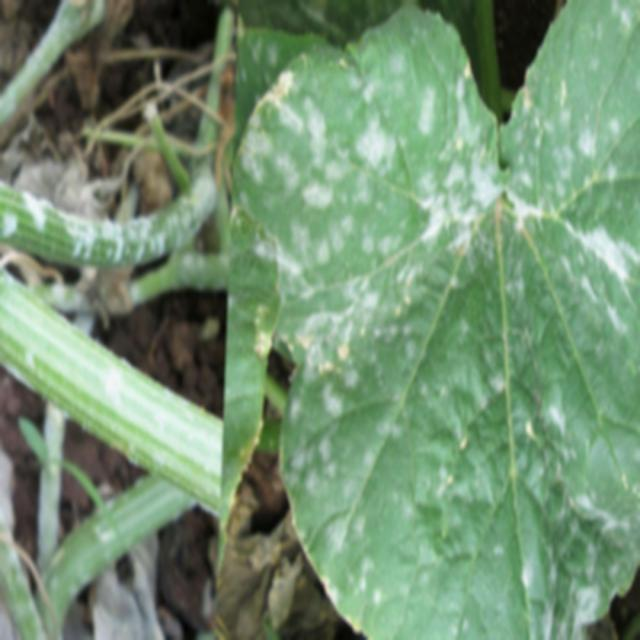Powdery_Mildew: (227, 0, 640, 638), (508, 69, 640, 367), (0, 139, 214, 257)
